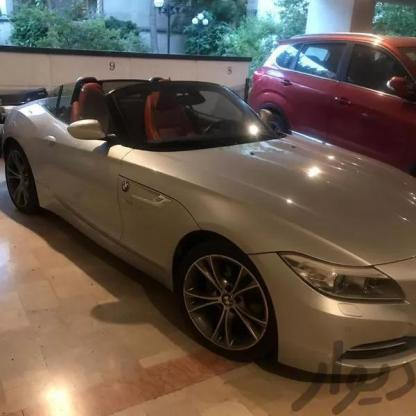Car: (0, 69, 407, 387), (260, 0, 416, 208)
